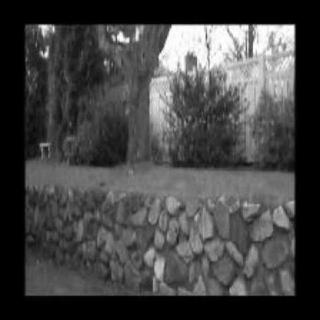other: (161, 37, 220, 73), (107, 40, 135, 86)
